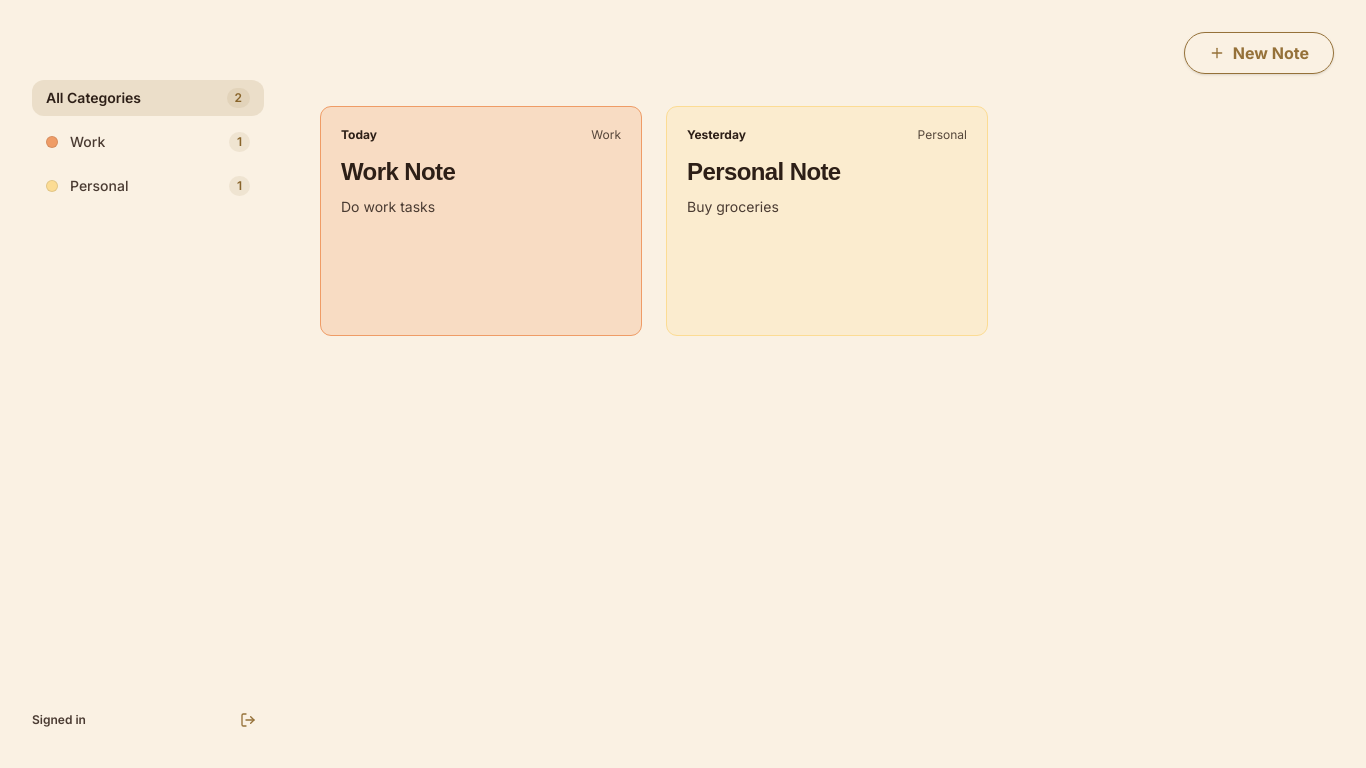
Test: DashboardClient Component › filters notes when category chip or button is clicked
// Click on the Work category
Click the 1st text "Work" at (88, 142), box [70, 132, 105, 152]
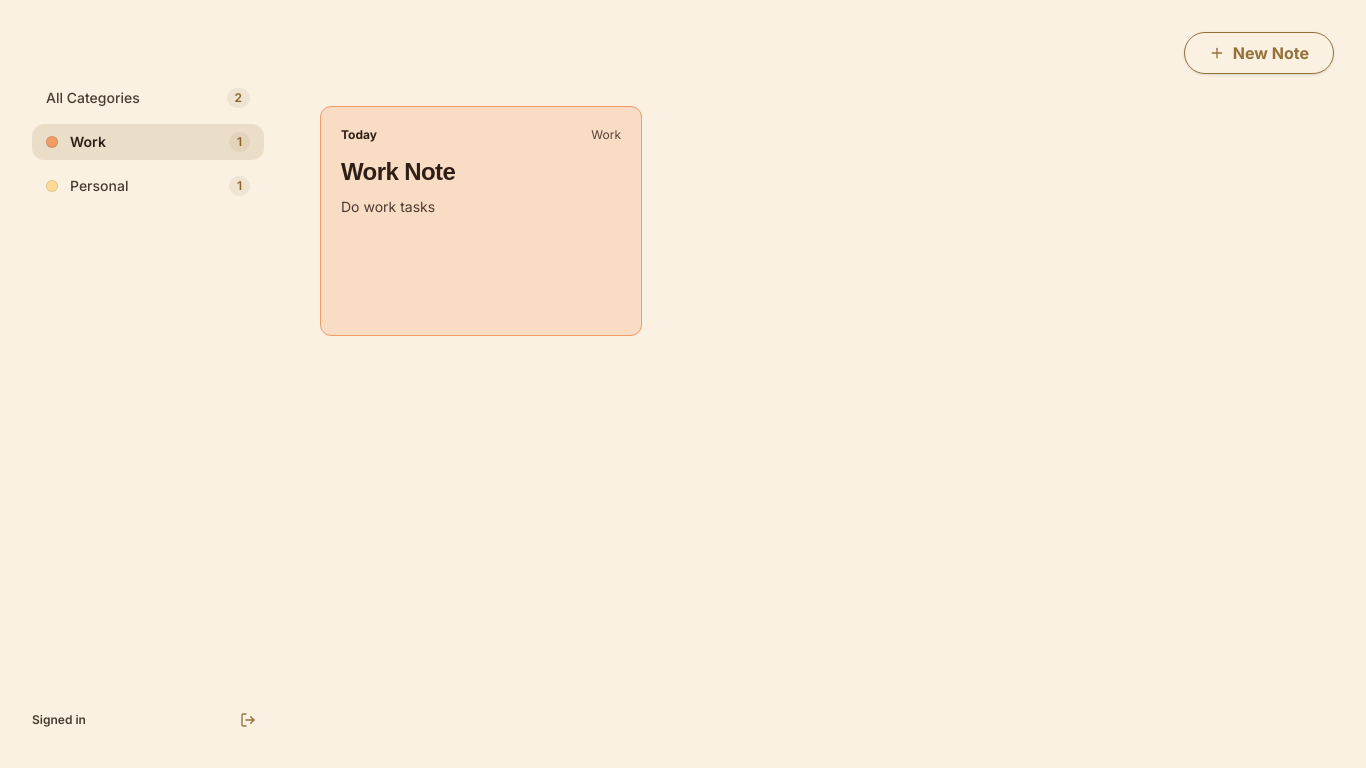
Expected: the heading "Work Note" is shown, [341, 158, 455, 185]
Expected: the button "Personal Note" is gone
// Click on All / All Categories
Click the text "All Categories" at (93, 98), box [46, 88, 140, 108]
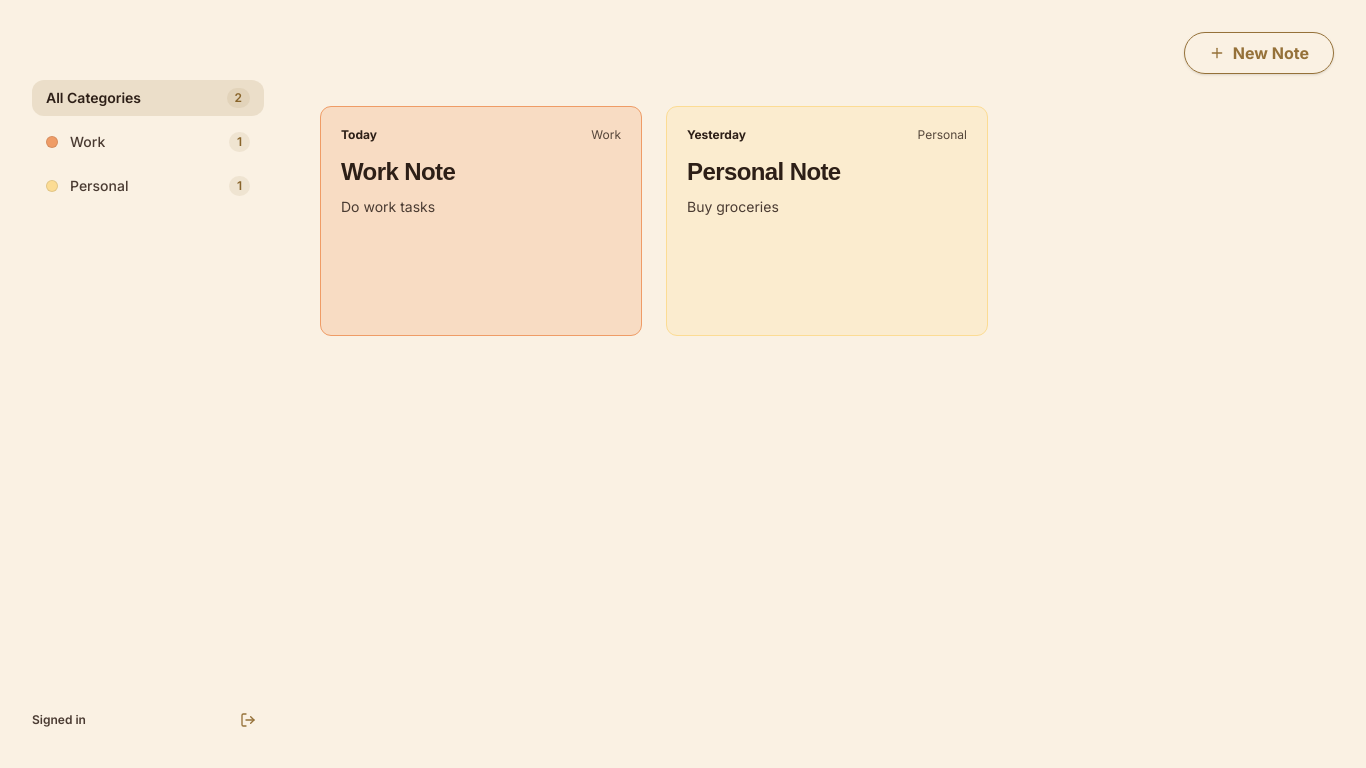
Expected: the heading "Work Note" is shown, [341, 158, 455, 185]
Expected: the heading "Personal Note" is shown, [687, 158, 841, 185]
